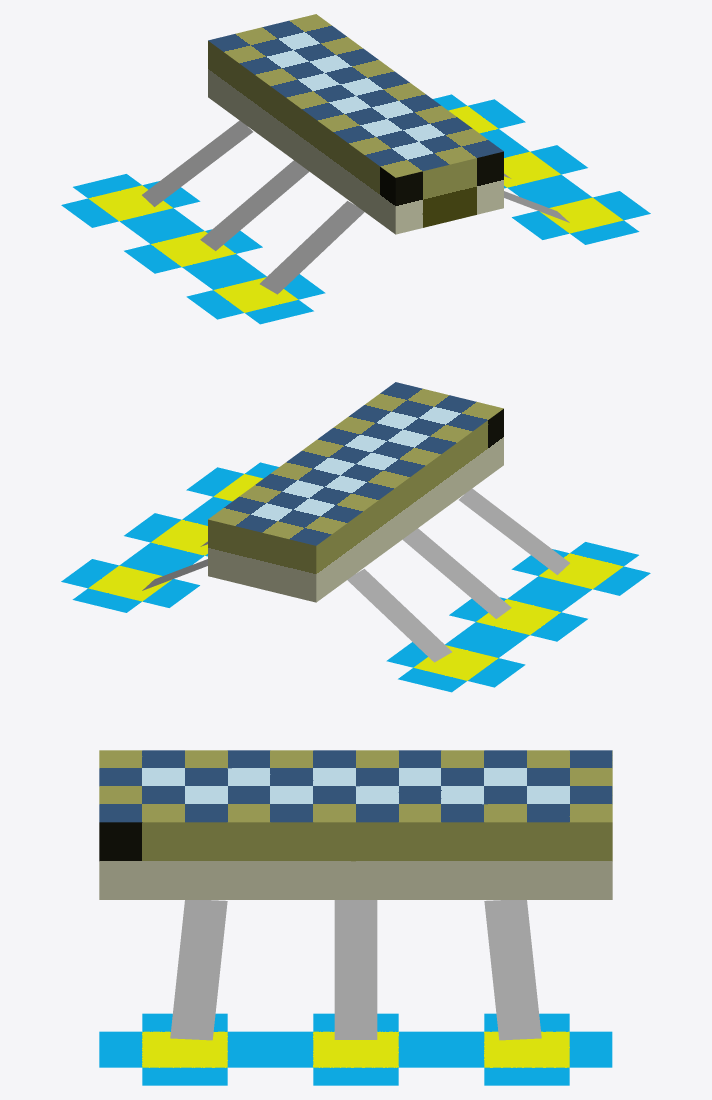
File: hoverfish.obj
The picture shows the model from 3 angles, top to bottom: view 1: azimuth 30°, elevation 25°; view 2: azimuth 150°, elevation 25°; view 3: azimuth 270°, elevation 25°; orthographic projection. The views are drawn at different scales.
Parts seen in each view (by area): view 1: cube; view 2: cube; view 3: cube.
Part boxes in pixels (x1=…): cube: x1=61, y1=14, x2=650, y2=324; cube: x1=61, y1=382, x2=650, y2=692; cube: x1=99, y1=750, x2=612, y2=1085.
Bounding box in the file's own units: 1 × 0.25 × 1.
